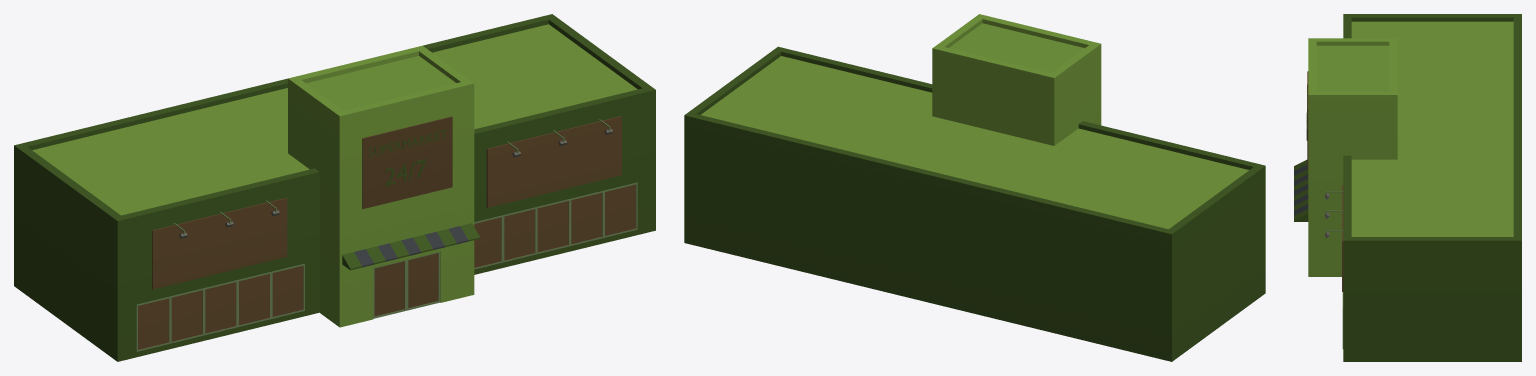
The model's file is Supermarket_04.fbx.
3 renders of one model, left to right at view 1: azimuth 30°, elevation 25°; view 2: azimuth 150°, elevation 25°; view 3: azimuth 270°, elevation 25°, orthographic. The views are drawn at different scales.
Visible parts, largest first — view 1: Supermarket_04; view 2: Supermarket_04; view 3: Supermarket_04.
Boxes of the visible parts, <box> form: Supermarket_04: <box>14,14,655,361</box>; Supermarket_04: <box>684,14,1265,361</box>; Supermarket_04: <box>1294,14,1521,361</box>.
Bounding box in the file's own units: 24 × 9 × 10.21.
